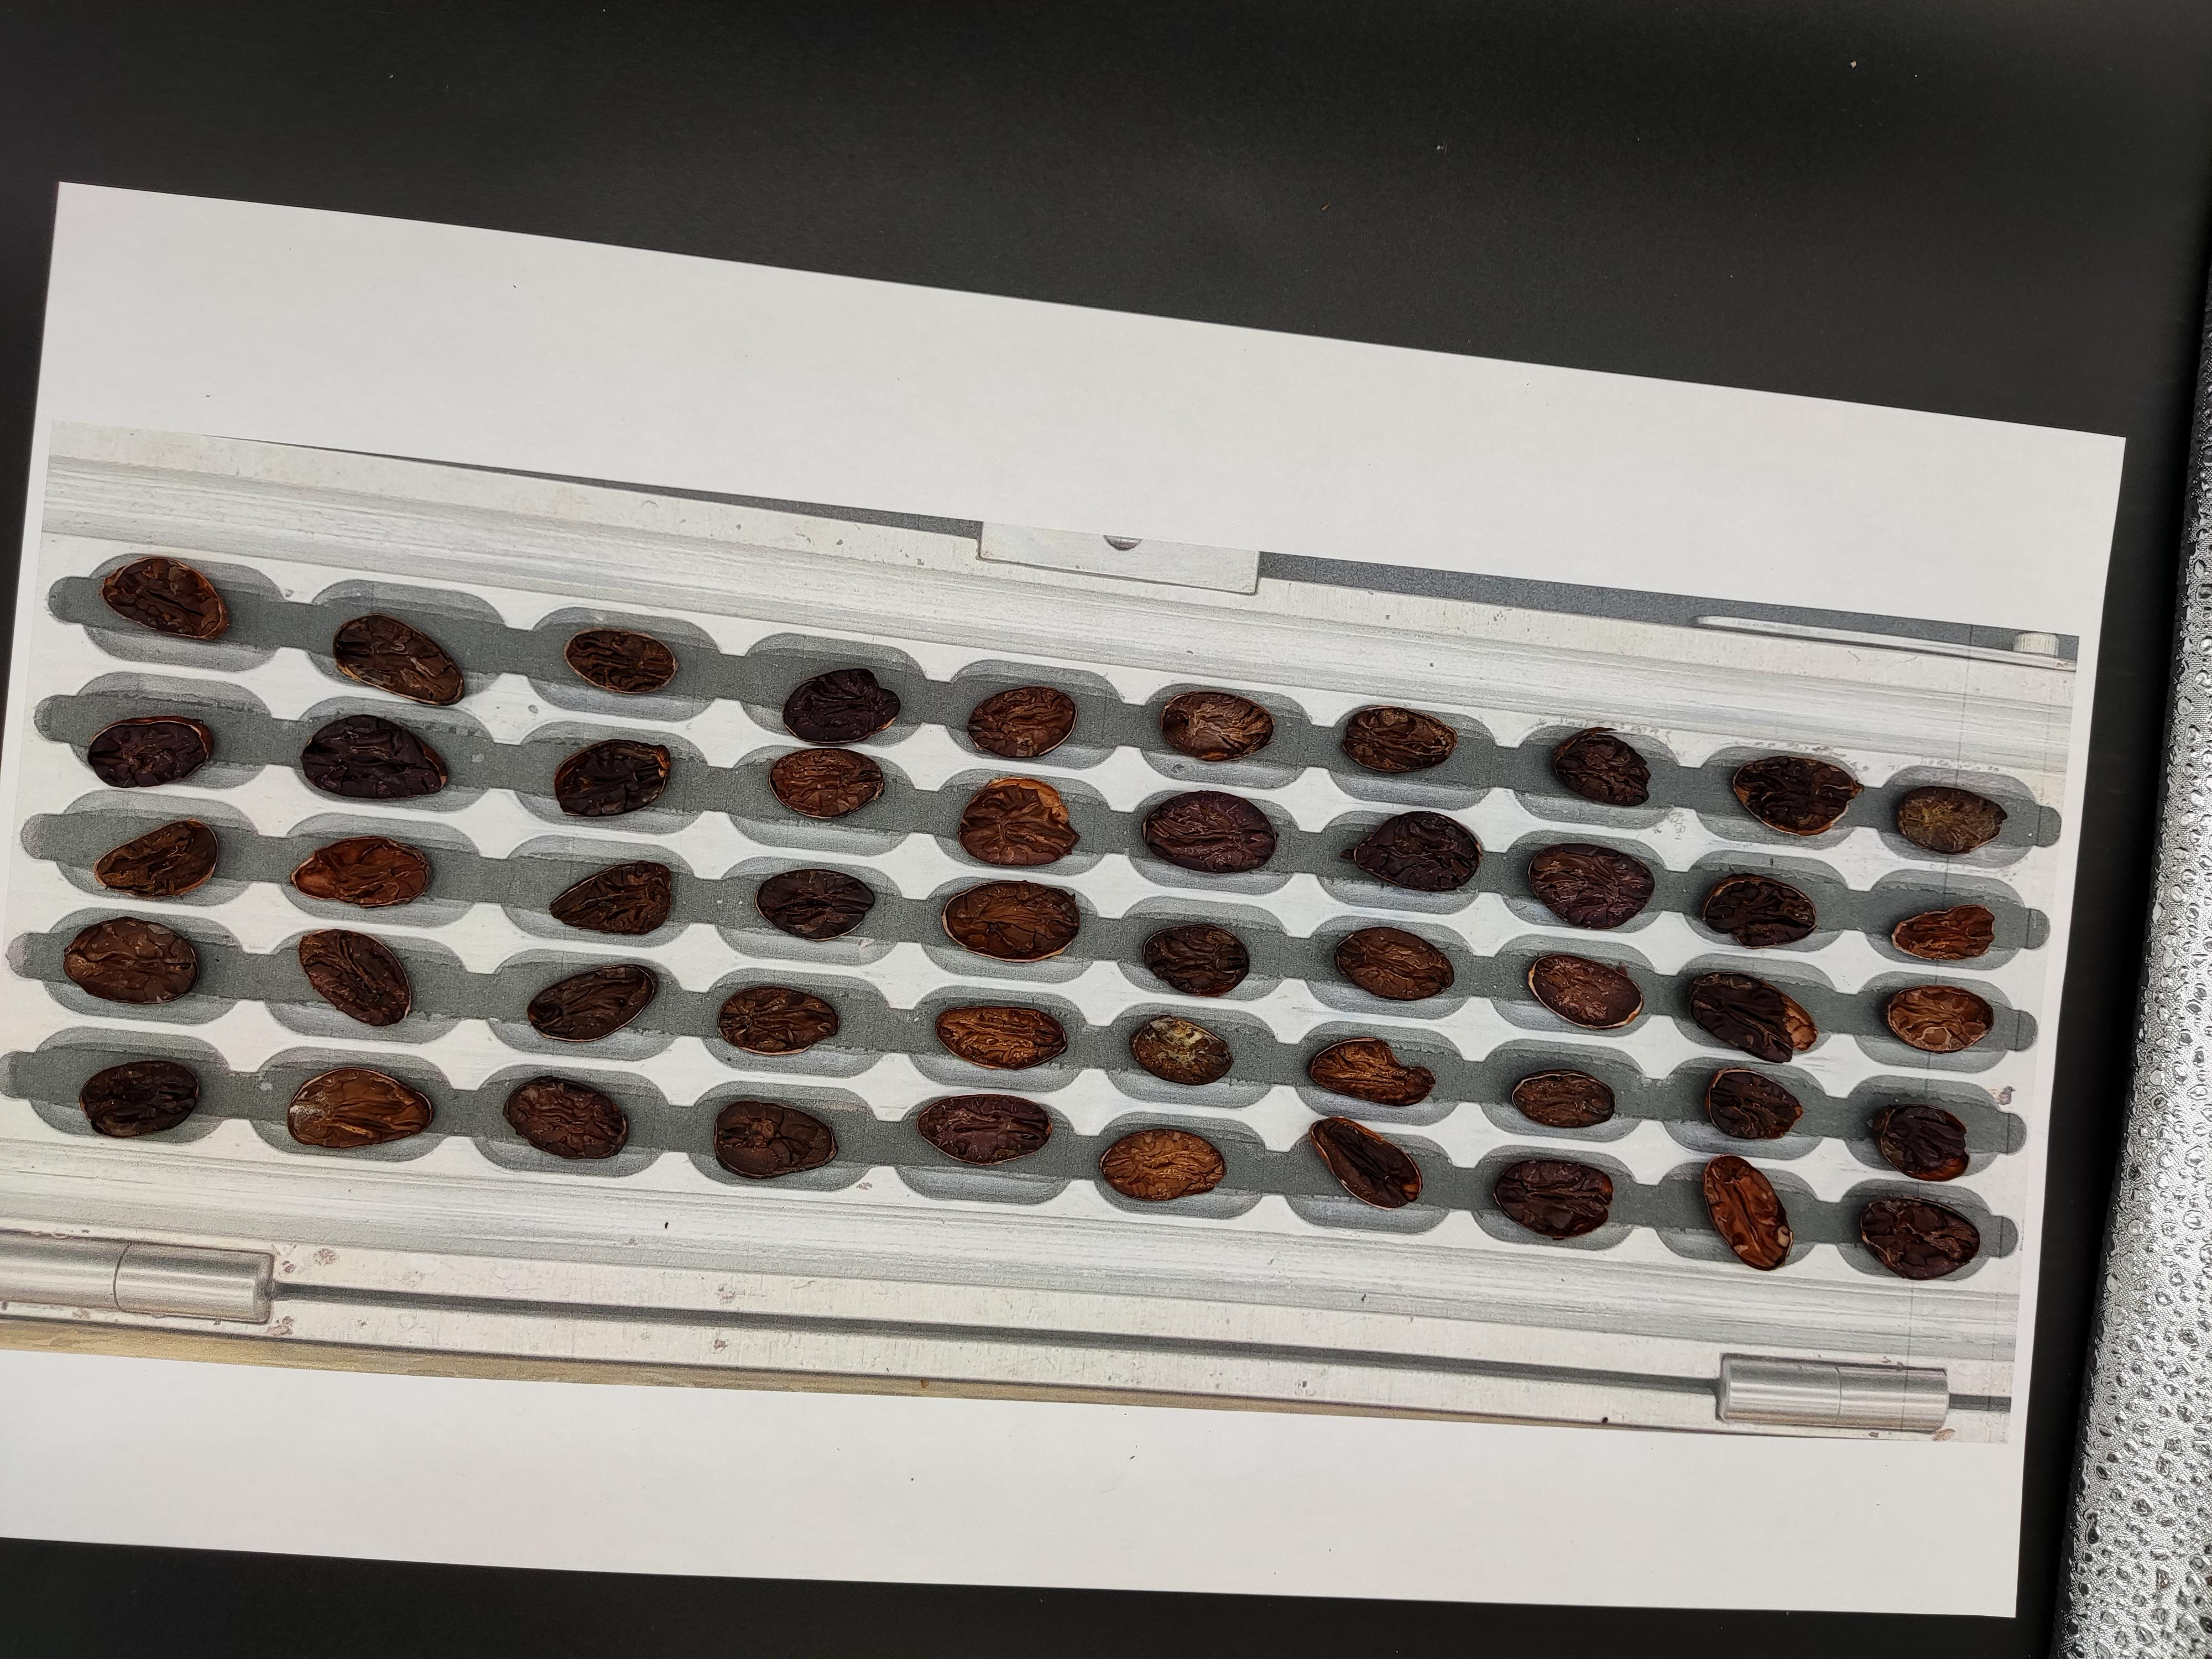Brown - G1: (1564, 394, 1637, 448), (1946, 589, 2003, 655), (1444, 502, 1515, 545), (1764, 357, 1829, 401), (2045, 457, 2106, 498)
Brown - G2: (1569, 343, 1635, 394), (1747, 526, 1820, 570), (1364, 436, 1428, 484), (1554, 511, 1632, 551), (2040, 502, 2106, 544)
Brown - G3: (1557, 450, 1641, 497), (1756, 469, 1831, 516), (1635, 577, 1710, 619), (1669, 350, 1737, 396), (1470, 383, 1534, 422), (1364, 547, 1406, 599)
Brown - G4: (1851, 544, 1912, 584)
Insect-damaged: (2045, 401, 2113, 441)
Mouldy: (1653, 514, 1716, 559)
Partly Purple - G1: (1946, 444, 2015, 490), (1949, 545, 2013, 586)
Partly Purple - G2: (1857, 429, 1933, 479), (1838, 591, 1909, 640)
Partly Purple - G3: (1545, 558, 1622, 601)
Partly Purple - G4: (1858, 483, 1926, 532)
Total Purple - G3: (1764, 410, 1841, 462), (1662, 401, 1740, 451), (1477, 340, 1547, 383)
Very Dark Brown - G1: (1939, 493, 2013, 547), (1961, 385, 2036, 432), (1366, 319, 1432, 362), (2034, 559, 2090, 608)
Very Dark Brown - G2: (1364, 373, 1437, 423), (2026, 610, 2099, 659), (1745, 572, 1810, 624), (1869, 368, 1933, 418), (1660, 465, 1723, 512)
Very Dark Brown - G3: (1439, 561, 1514, 608), (1460, 443, 1531, 486), (1364, 488, 1425, 538)
